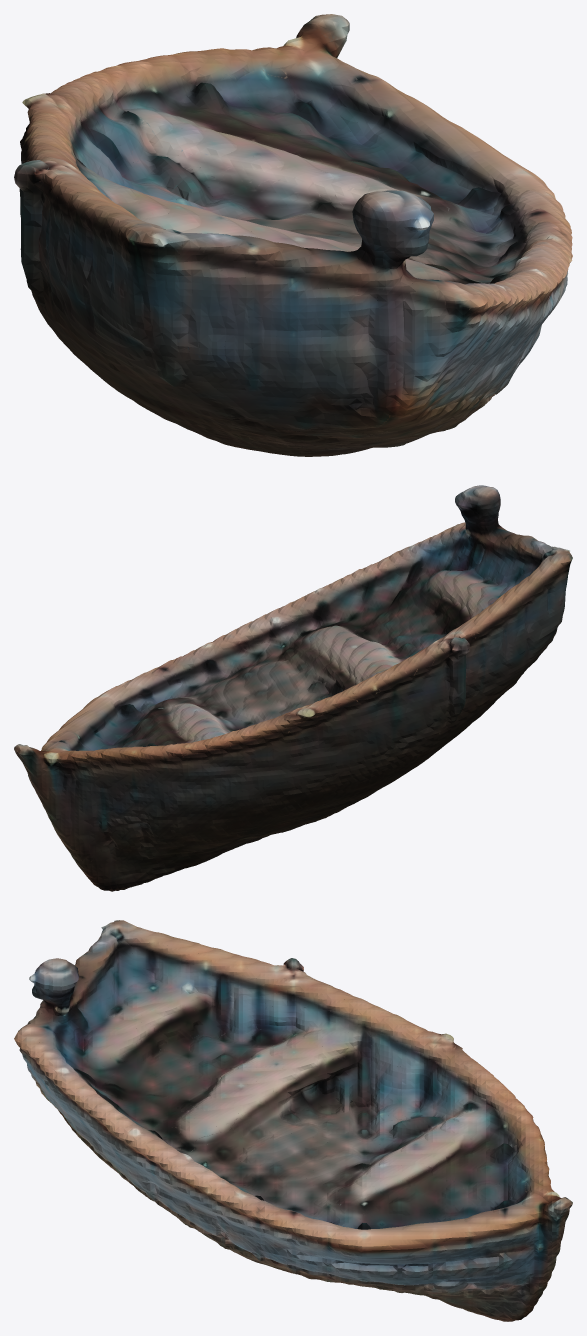
3 views of the same model, one above another, from view 1: azimuth 30°, elevation 25°; view 2: azimuth 150°, elevation 25°; view 3: azimuth 270°, elevation 25° (orthographic). The views are drawn at different scales.
Parts seen in each view (by area): view 1: world; view 2: world; view 3: world.
Boxes of the visible parts, x1,y1,x2,y2 form: world: (14,14,572,456); world: (14,485,572,891); world: (14,920,572,1321).
Bounding box in the file's own units: 0.6587 × 0.4834 × 0.8636.
Materials: 1 (1 with a texture image).
